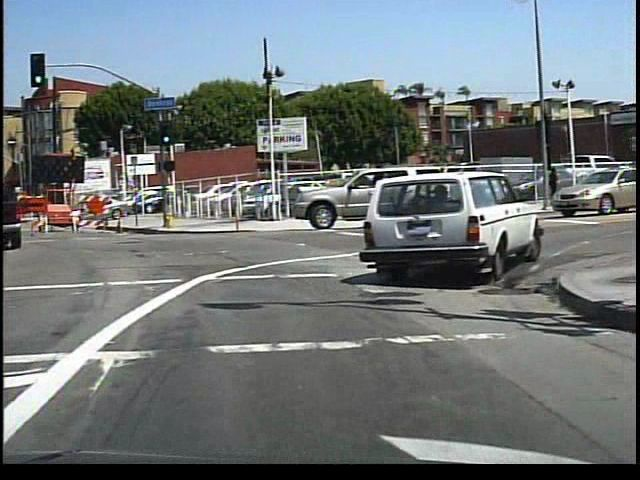person: (543, 162, 562, 206)
